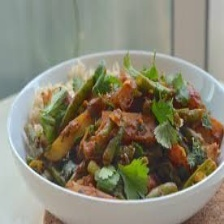sabzi: (22, 51, 224, 199)
